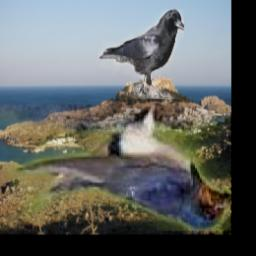Crow: (99, 9, 185, 99)
Swallow: (0, 106, 231, 232)
